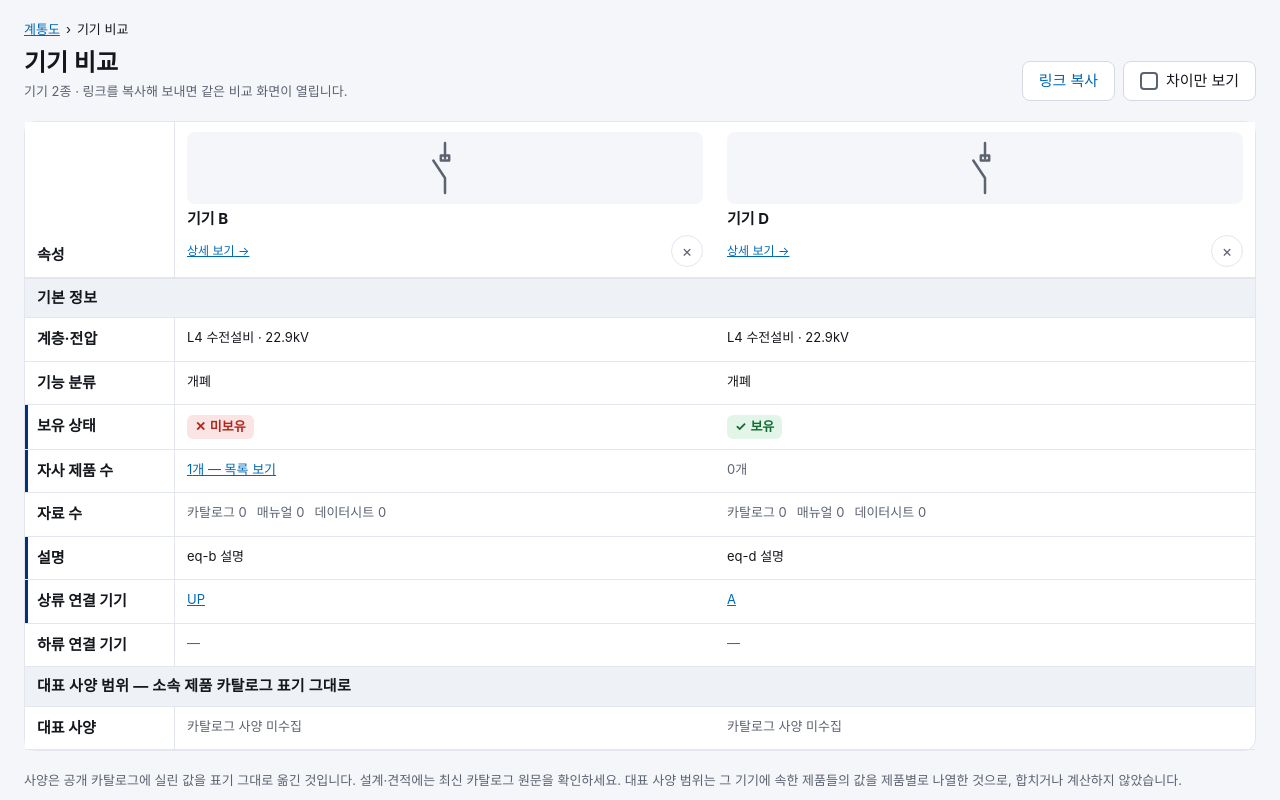
CT-07 기기 비교 (/compare?type=equipment) › 사양 없는 기기끼리 → "카탈로그 사양 미수집" 1행, 차이만 보기에서 사양 구역 자체가 사라짐
This screenshot has width=1280, height=800.
Click the button with test id "compare-diff-only" at (1190, 81), box [1123,61,1256,101]
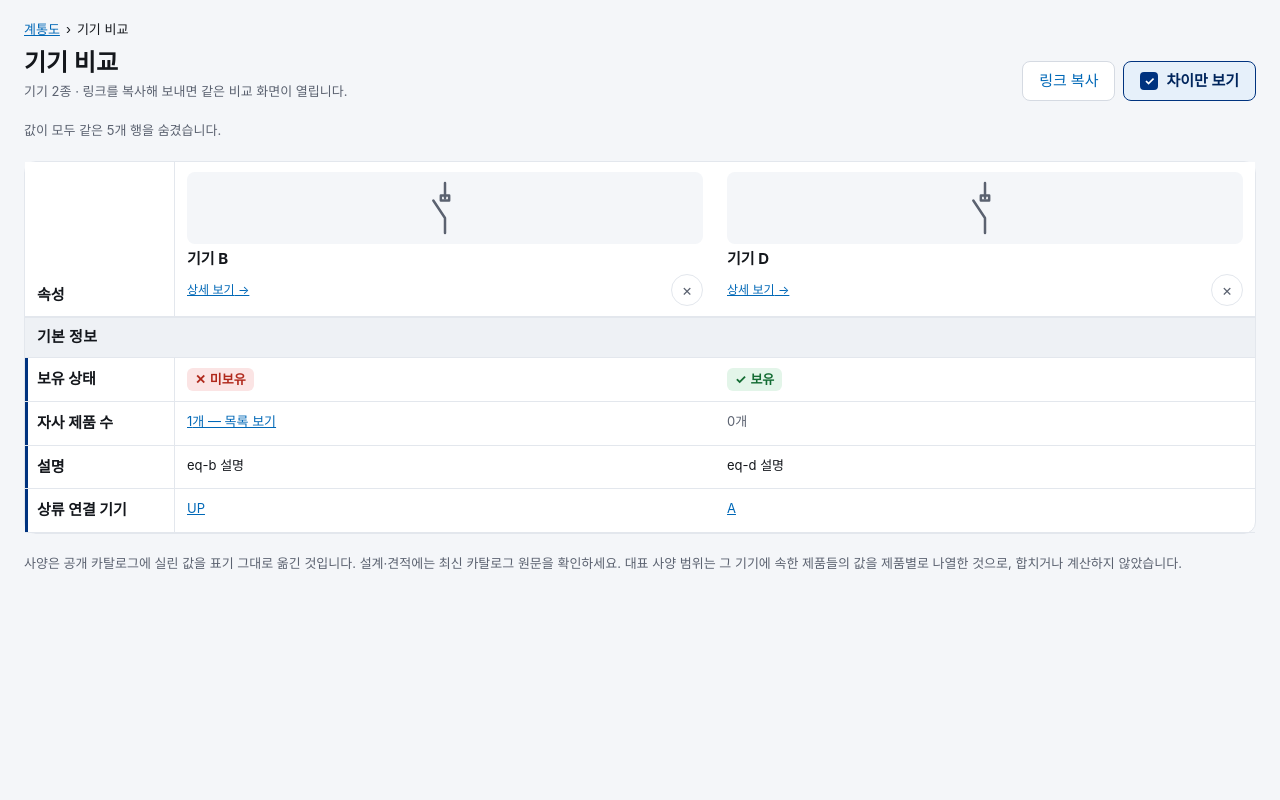
Result: the table with test id "compare-section-specs" is gone
